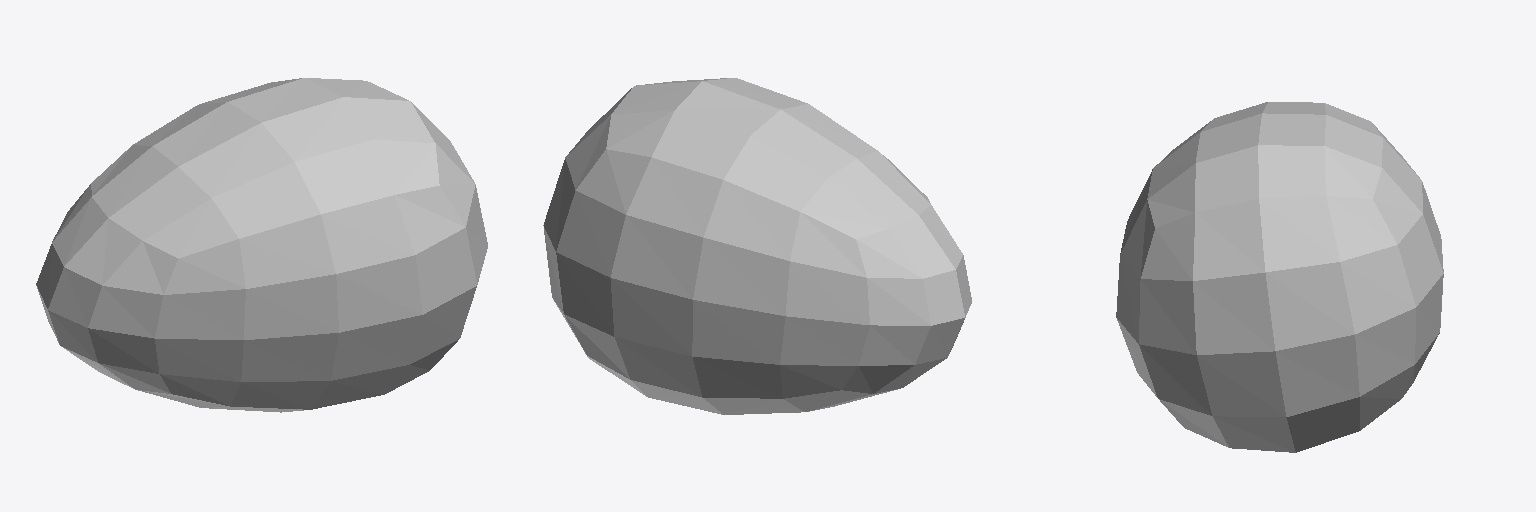
Rendered from manos.obj.
3 renders of one model, left to right at view 1: azimuth 30°, elevation 25°; view 2: azimuth 150°, elevation 25°; view 3: azimuth 270°, elevation 25°, orthographic.
Visible parts, largest first — view 1: Cube.001; view 2: Cube.001; view 3: Cube.001.
Part boxes in pixels (bbox=[...]): Cube.001: bbox=[36, 78, 487, 412]; Cube.001: bbox=[543, 78, 971, 414]; Cube.001: bbox=[1116, 102, 1443, 452].
Size of the model in its own units: 1.06 by 0.7392 by 0.7406.